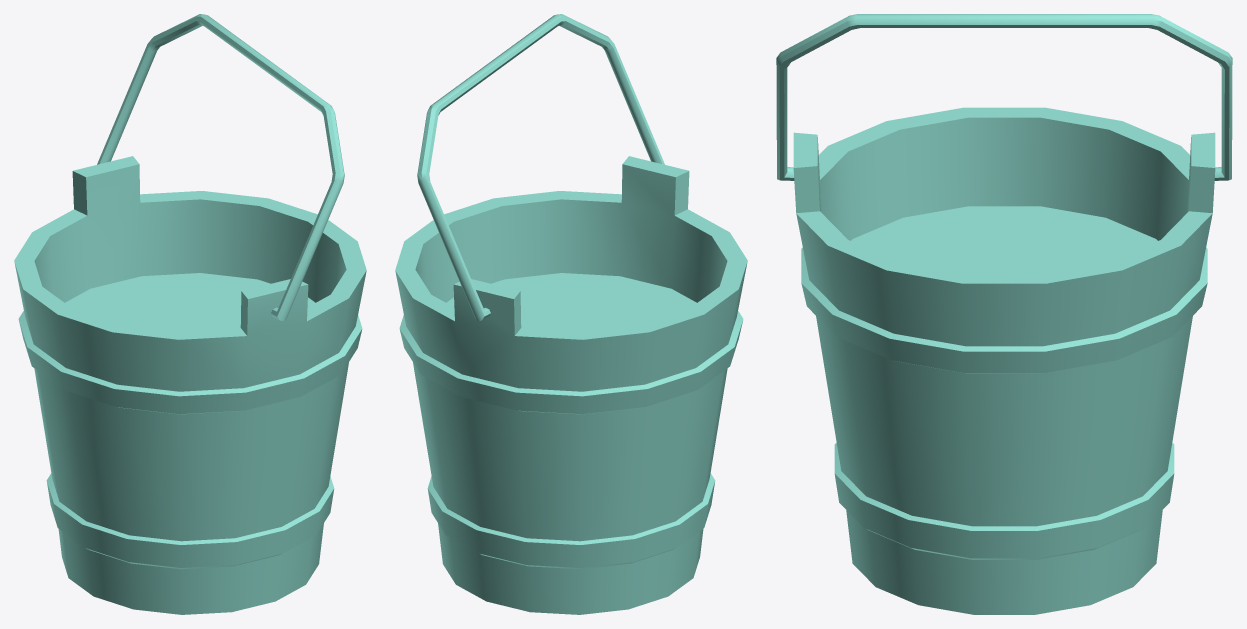
The model's file is Bucket.fbx.
3 views of the same model, side by side, from view 1: azimuth 30°, elevation 25°; view 2: azimuth 150°, elevation 25°; view 3: azimuth 270°, elevation 25° (orthographic). The views are drawn at different scales.
Visible parts, largest first — view 1: Bucket; view 2: Bucket; view 3: Bucket.
Part boxes in pixels (x1,y1,x2,y2): Bucket: (14, 14, 366, 614); Bucket: (395, 14, 747, 614); Bucket: (776, 14, 1232, 614).
Bounding box in the file's own units: 87.01 × 134 × 95.25.
